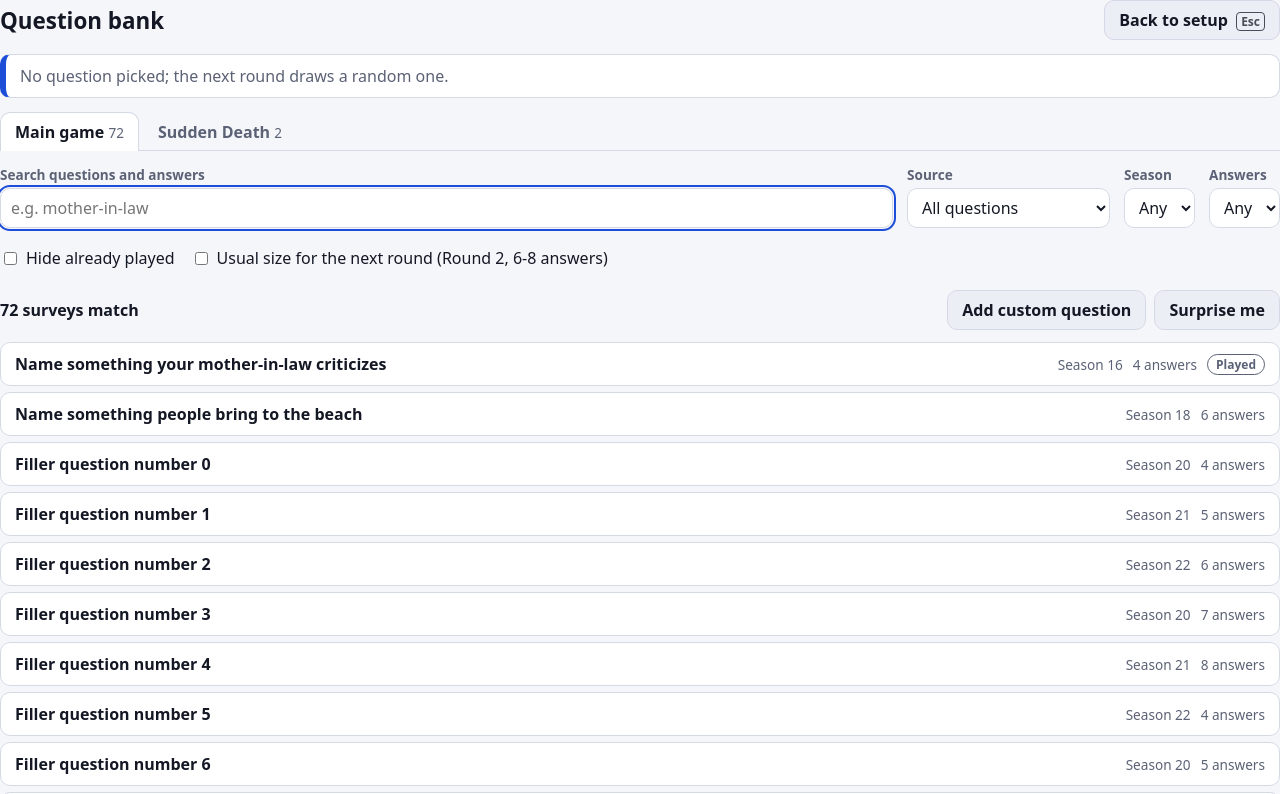
Scenario: QuestionBrowser › Surprise me expands a random unplayed survey matching the filters
Type "mother in law" into the search field labelled "Search questions and answers" at (446, 208), box [0, 188, 893, 228]
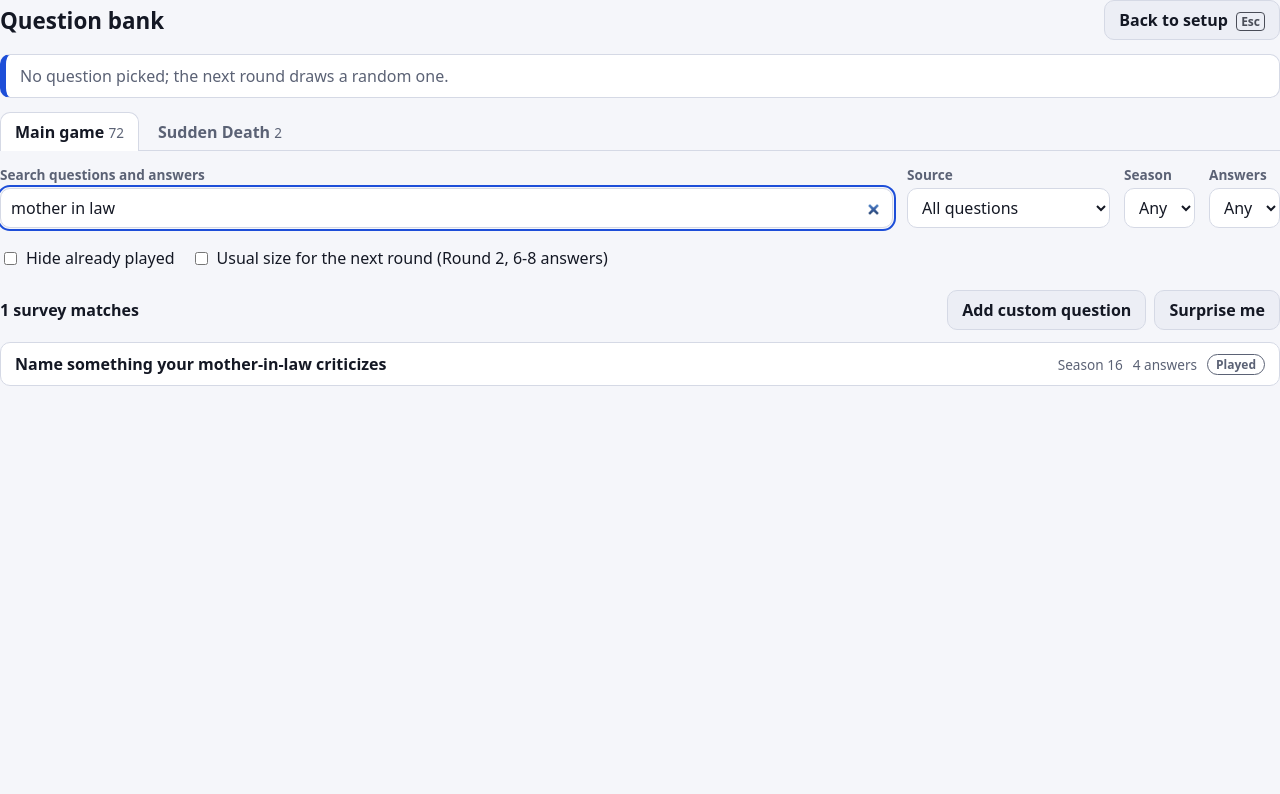
Click the button "Surprise me" at (1217, 310), box [1154, 290, 1279, 330]
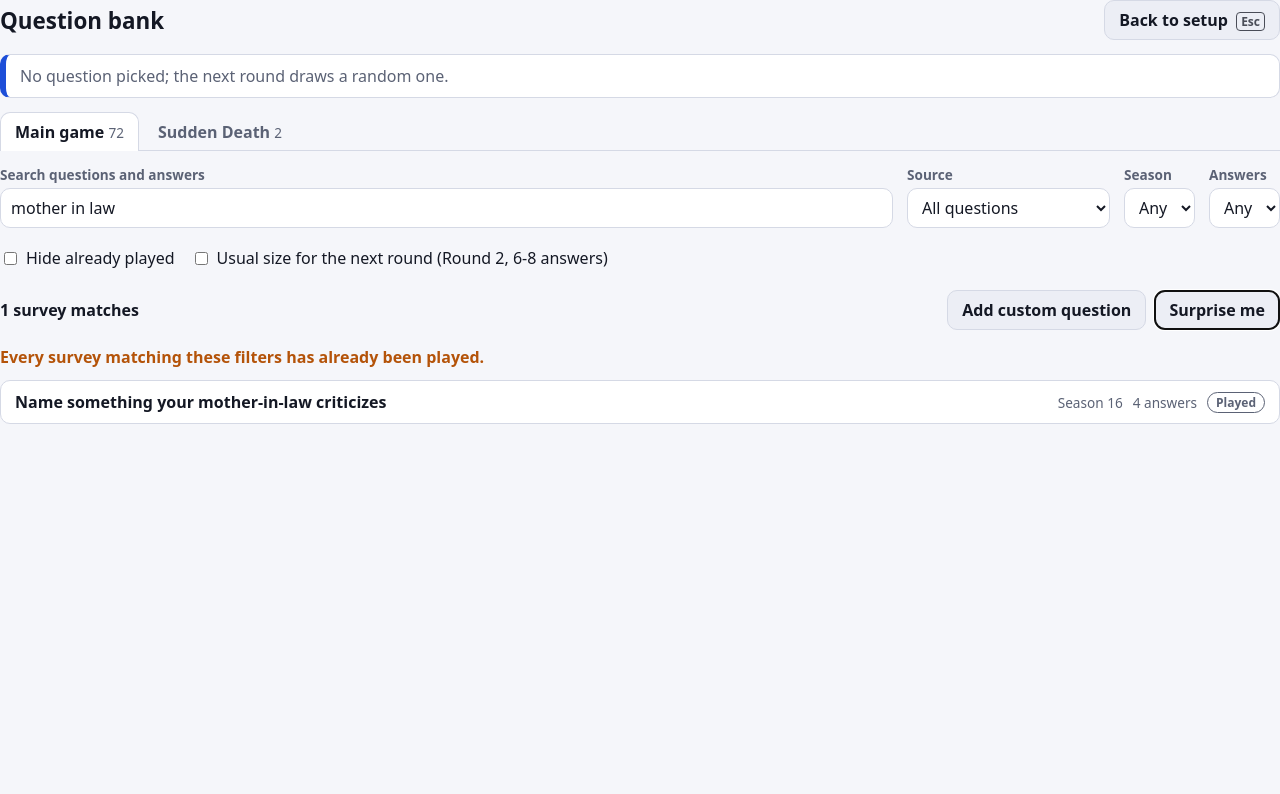
expect the text "Every survey matching these filters has already been played." is shown: met, box [0, 346, 484, 368]
Replace the text in the search field labelled "Search questions and answers" with "beach" at (446, 208), box [0, 188, 893, 228]
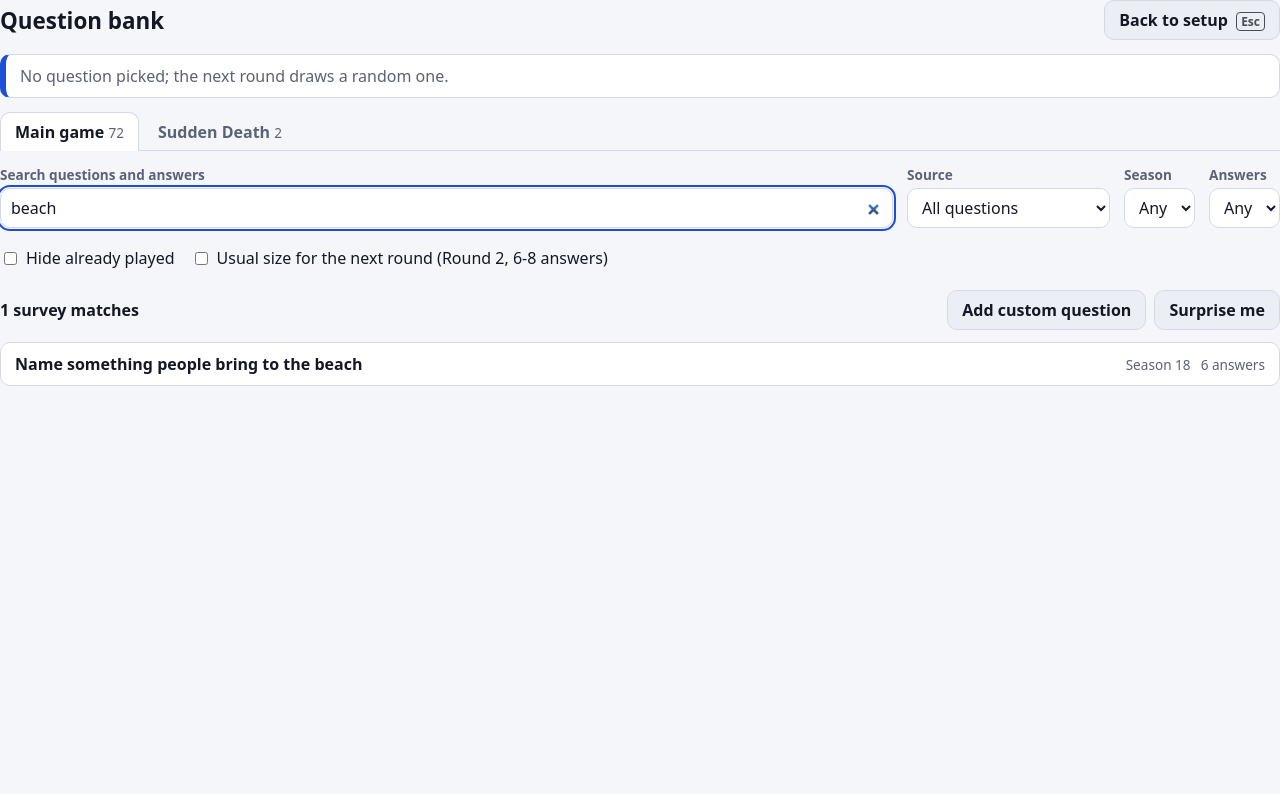
Click the button "Surprise me" at (1217, 310), box [1154, 290, 1279, 330]
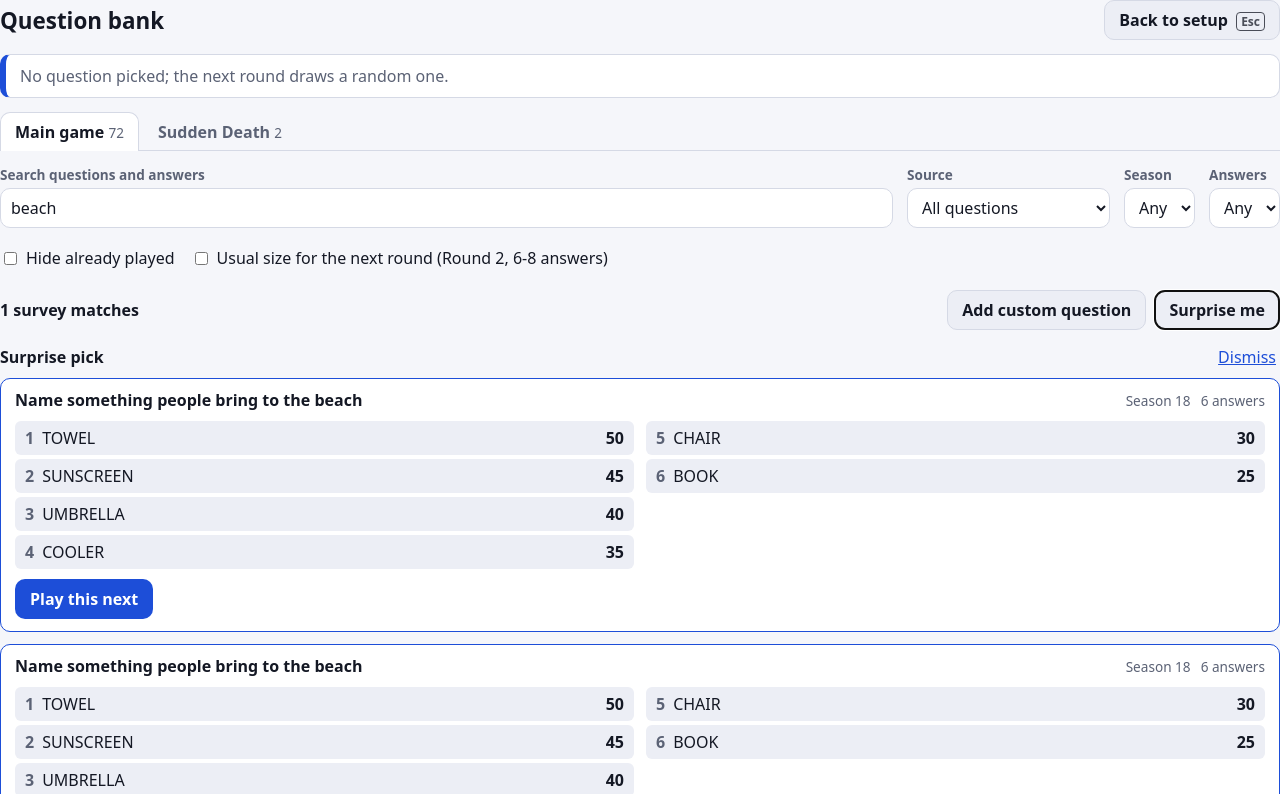
expect the text "TOWEL" below "Surprise pick" is shown: met, box [42, 427, 95, 449]
Click the button "Dismiss" at (1247, 357), box [1214, 342, 1279, 372]
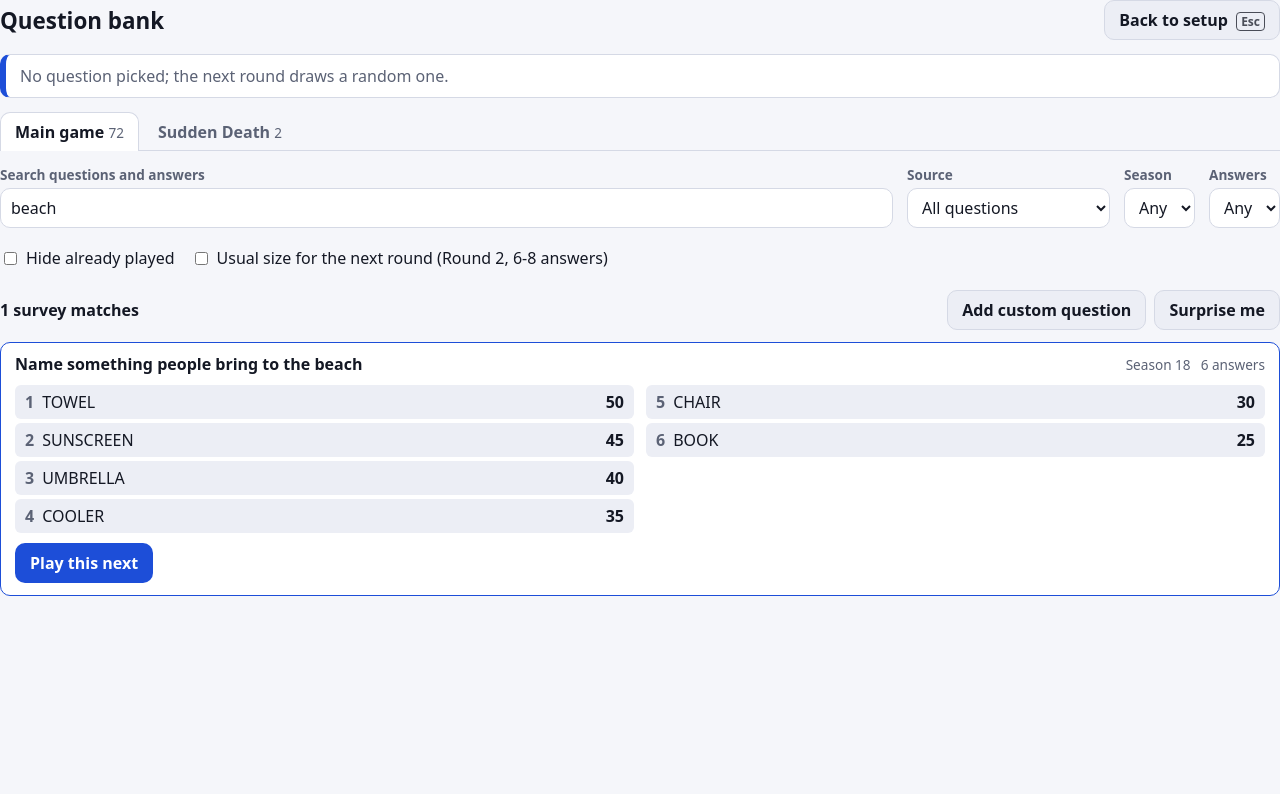
expect the heading "Surprise pick" is gone: met
